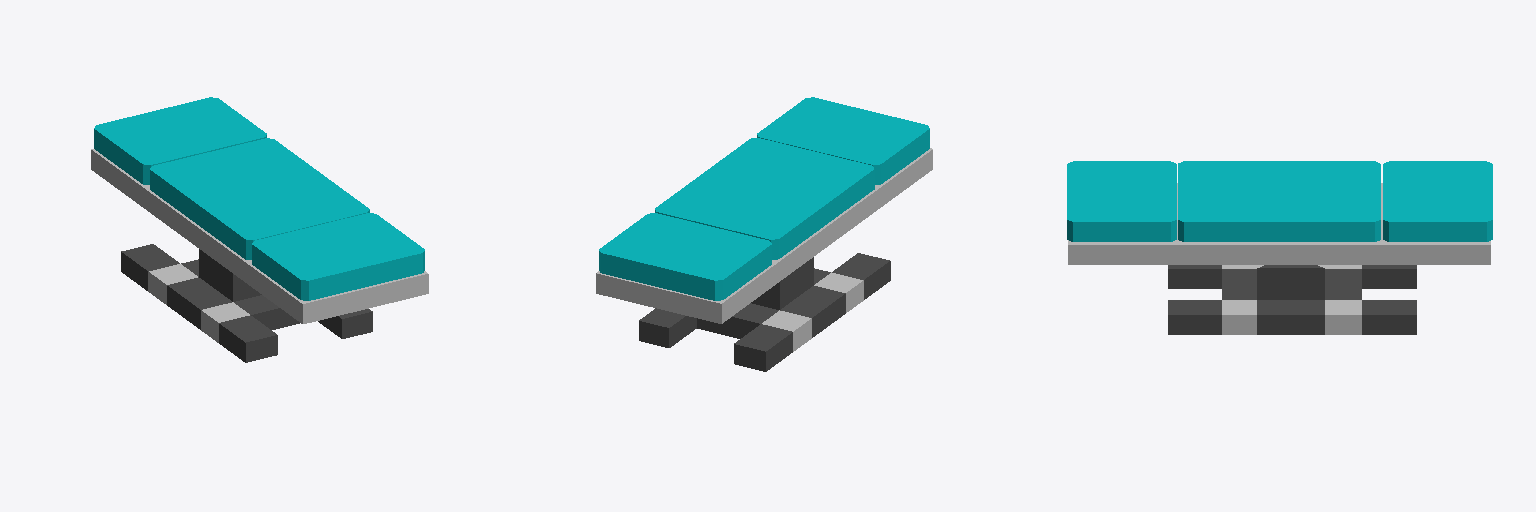
Rendered from bed.obj.
3 renders of one model, left to right at view 1: azimuth 30°, elevation 25°; view 2: azimuth 150°, elevation 25°; view 3: azimuth 270°, elevation 25°, orthographic.
Parts seen in each view (by area): view 1: Plane; view 2: Plane; view 3: Plane.
Boxes of the visible parts, <box> form: Plane: <box>91,97,428,362</box>; Plane: <box>596,97,932,371</box>; Plane: <box>1067,161,1492,334</box>.
Bounding box in the file's own units: 2.36 × 2.24 × 6.53.